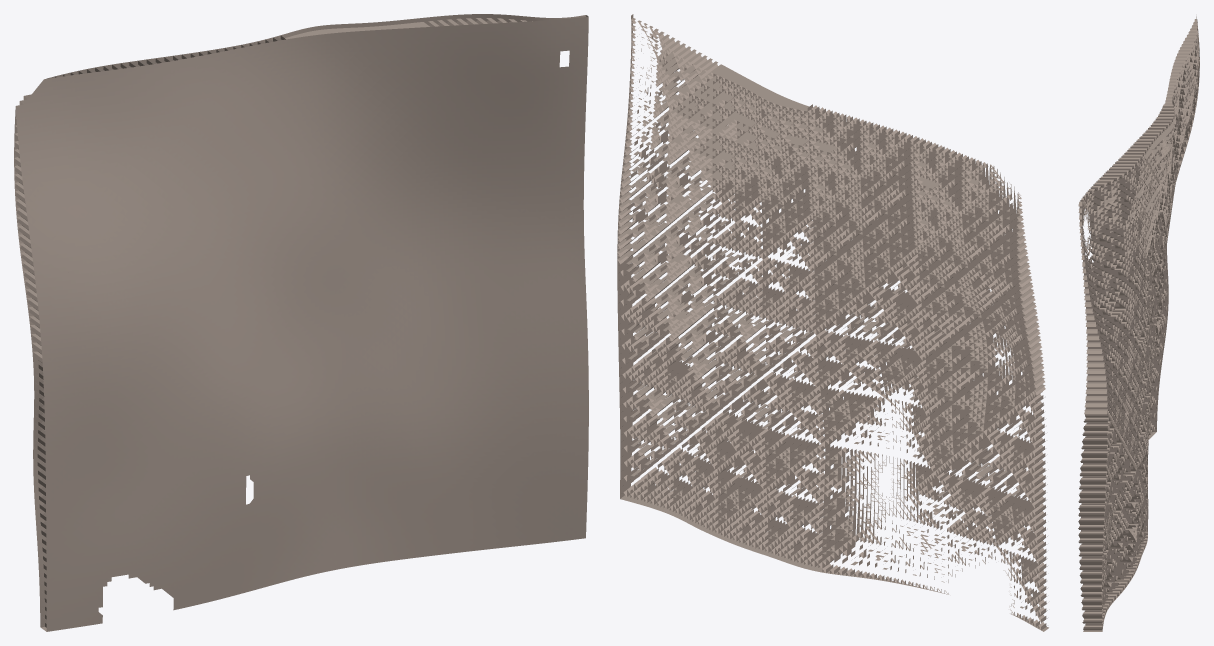
3 views of the same model, side by side, from view 1: azimuth 30°, elevation 25°; view 2: azimuth 150°, elevation 25°; view 3: azimuth 270°, elevation 25° (orthographic). The views are drawn at different scales.
Visible parts, largest first — view 1: world; view 2: world; view 3: world.
Part boxes in pixels (bbox=[...]): world: bbox=[14, 14, 588, 631]; world: bbox=[617, 14, 1048, 631]; world: bbox=[1078, 16, 1199, 631].
Size of the model in its own units: 12800 by 12800 by 3294.
